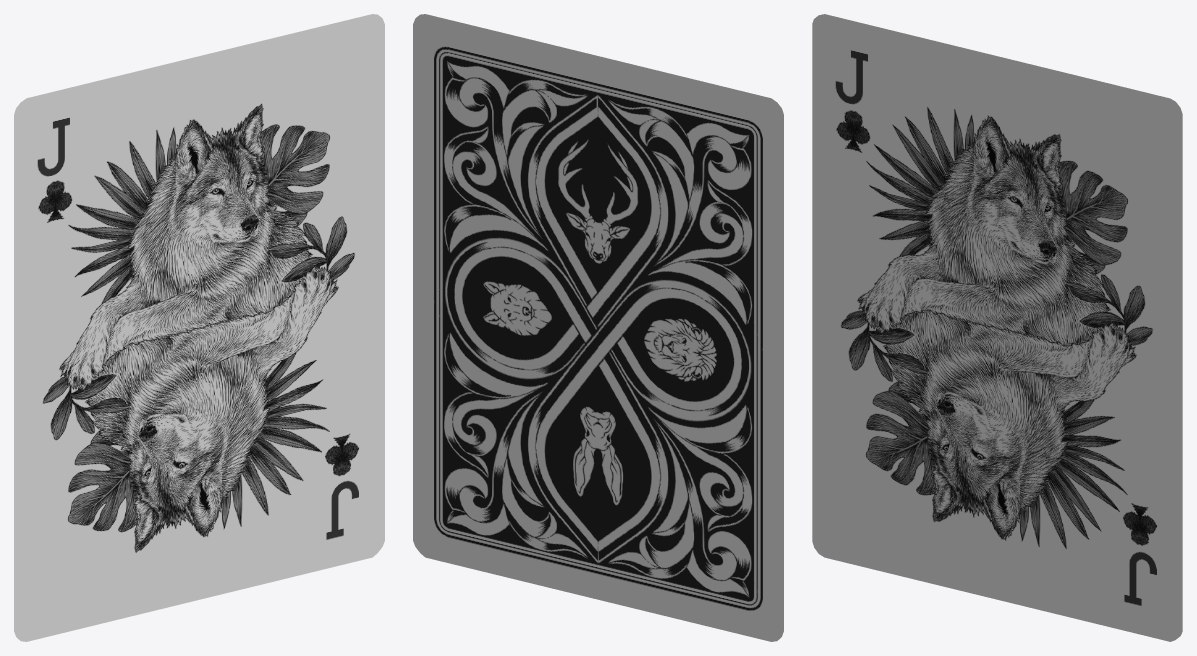
3 renders of one model, left to right at view 1: azimuth 30°, elevation 25°; view 2: azimuth 150°, elevation 25°; view 3: azimuth 330°, elevation 25°, orthographic.
Parts seen in each view (by area): view 1: Node; view 2: Node; view 3: Node.
Boxes of the visible parts, box(x1,y1,x2,y2) form: Node: box(14, 14, 384, 641); Node: box(413, 14, 783, 641); Node: box(812, 14, 1182, 641).
Bounding box in the file's own units: 1.5 × 2.1 × 7.08e-05.
Materials: 1 (1 with a texture image).
